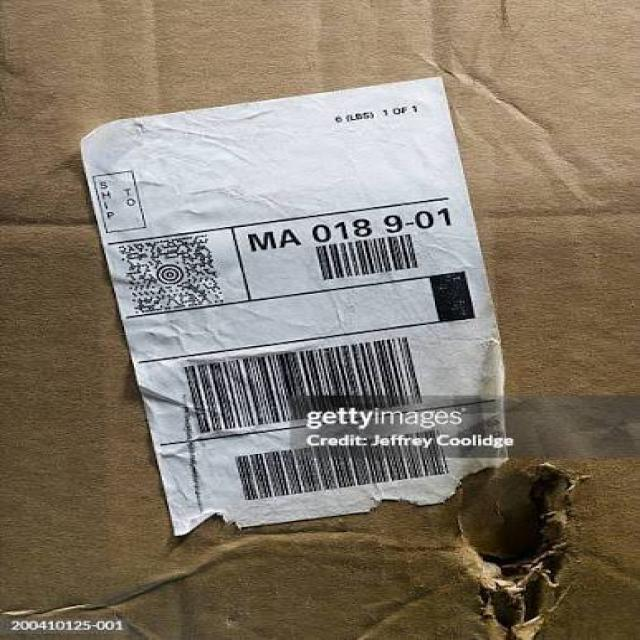export_mark_label: (81, 117, 520, 518)
package_damage: (377, 429, 640, 640)
